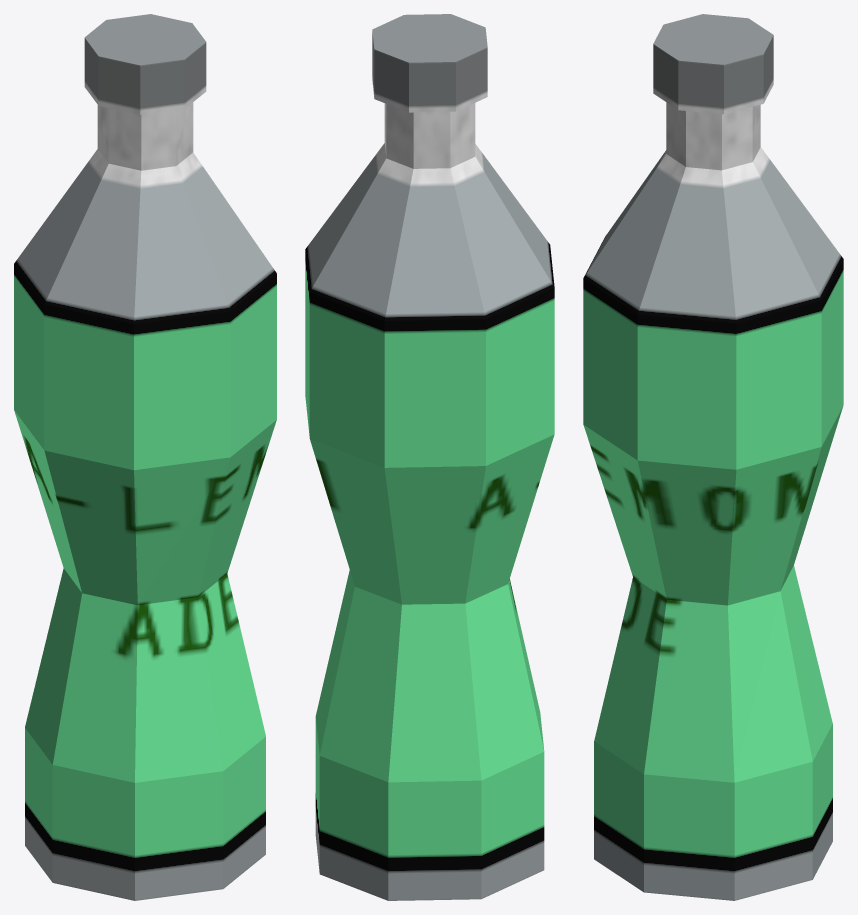
The model's file is bottle 10.FBX.
3 views of the same model, side by side, from view 1: azimuth 30°, elevation 25°; view 2: azimuth 150°, elevation 25°; view 3: azimuth 270°, elevation 25° (orthographic).
Visible parts, largest first — view 1: 礦泉水118; view 2: 礦泉水118; view 3: 礦泉水118.
Part boxes in pixels (x1=…): 礦泉水118: x1=14, y1=14, x2=276, y2=900; 礦泉水118: x1=305, y1=14, x2=554, y2=900; 礦泉水118: x1=583, y1=14, x2=843, y2=900.
Bounding box in the file's own units: 37.75 × 130 × 37.75.
1 material, 1 textured.
